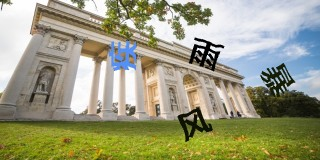暴: (260, 62, 295, 98)
疾: (108, 40, 140, 71)
雨: (187, 36, 225, 72)
风: (177, 106, 213, 143)
